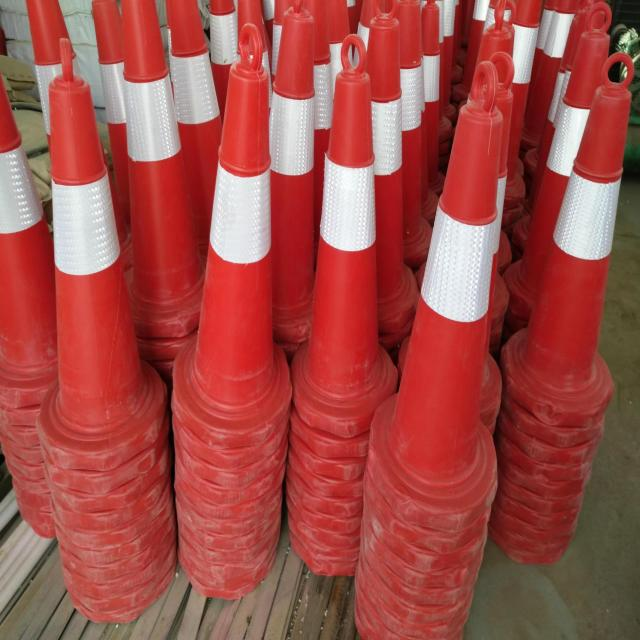reflective_cone: (368, 64, 502, 512), (29, 39, 168, 468), (174, 20, 294, 438), (502, 55, 631, 427), (291, 33, 398, 437), (112, 2, 207, 337)
